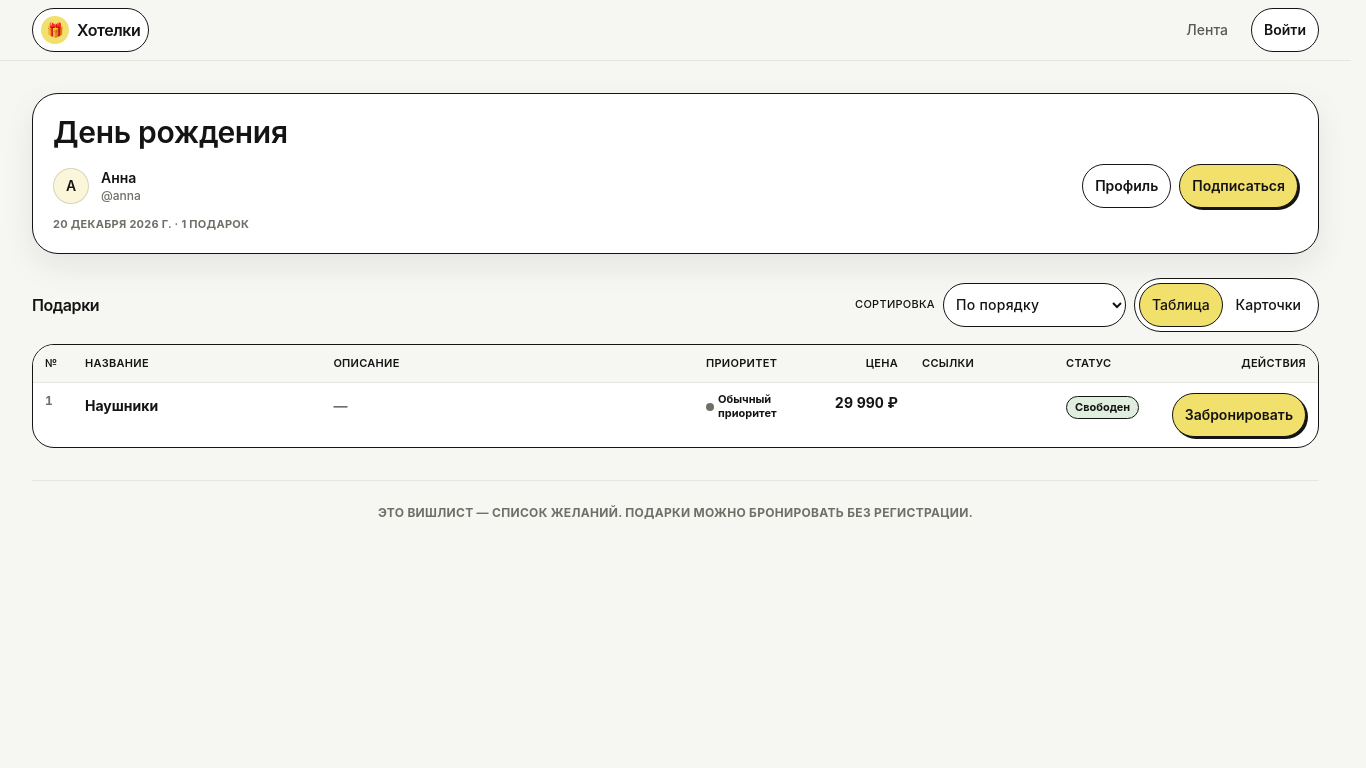
переключатель вида подарков › на публичной странице в виде «Карточки» бронирование работает
The image size is (1366, 768).
Expected: the text "Наушники" is shown, [85,397,158,414]
Click the button "Карточки".
click(1268, 304)  # box [1223,282,1314,326]
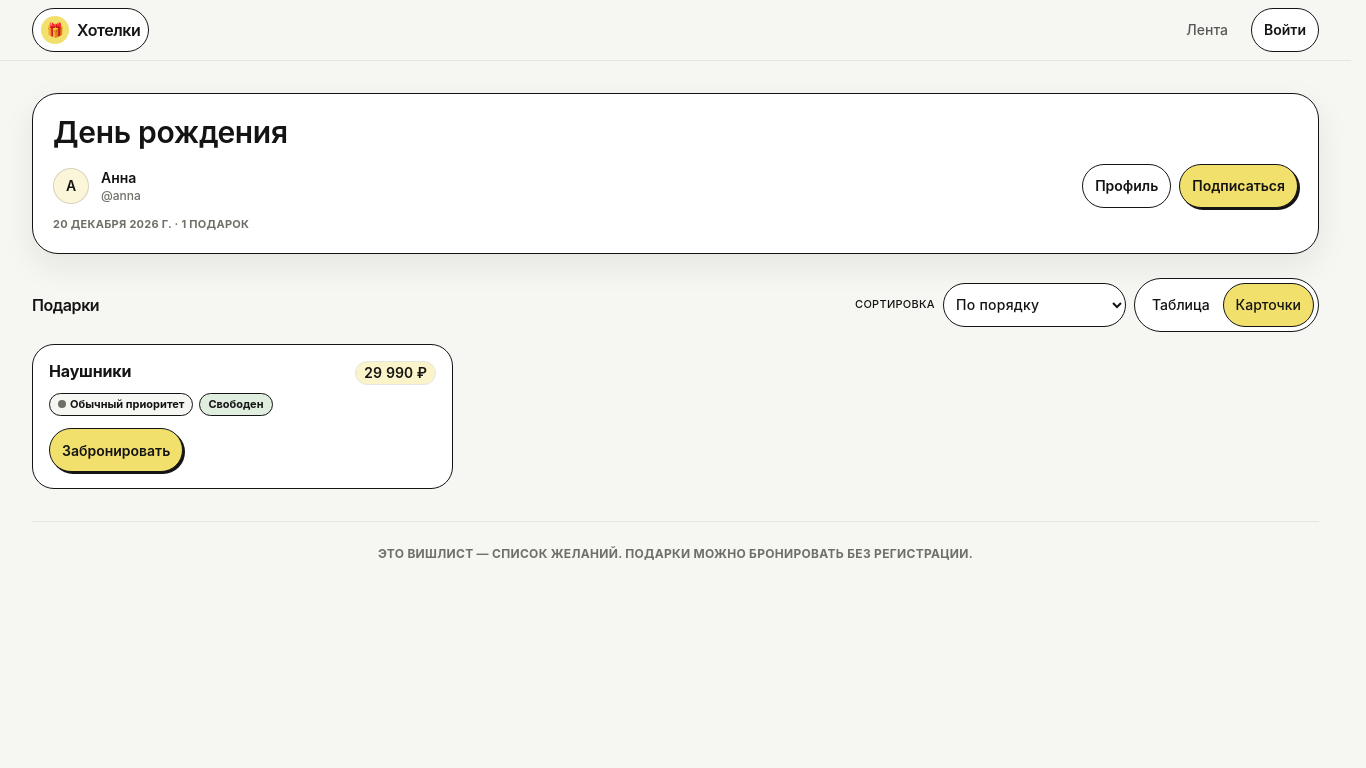
Click the button "Забронировать".
click(116, 450)  # box [49,428,183,472]
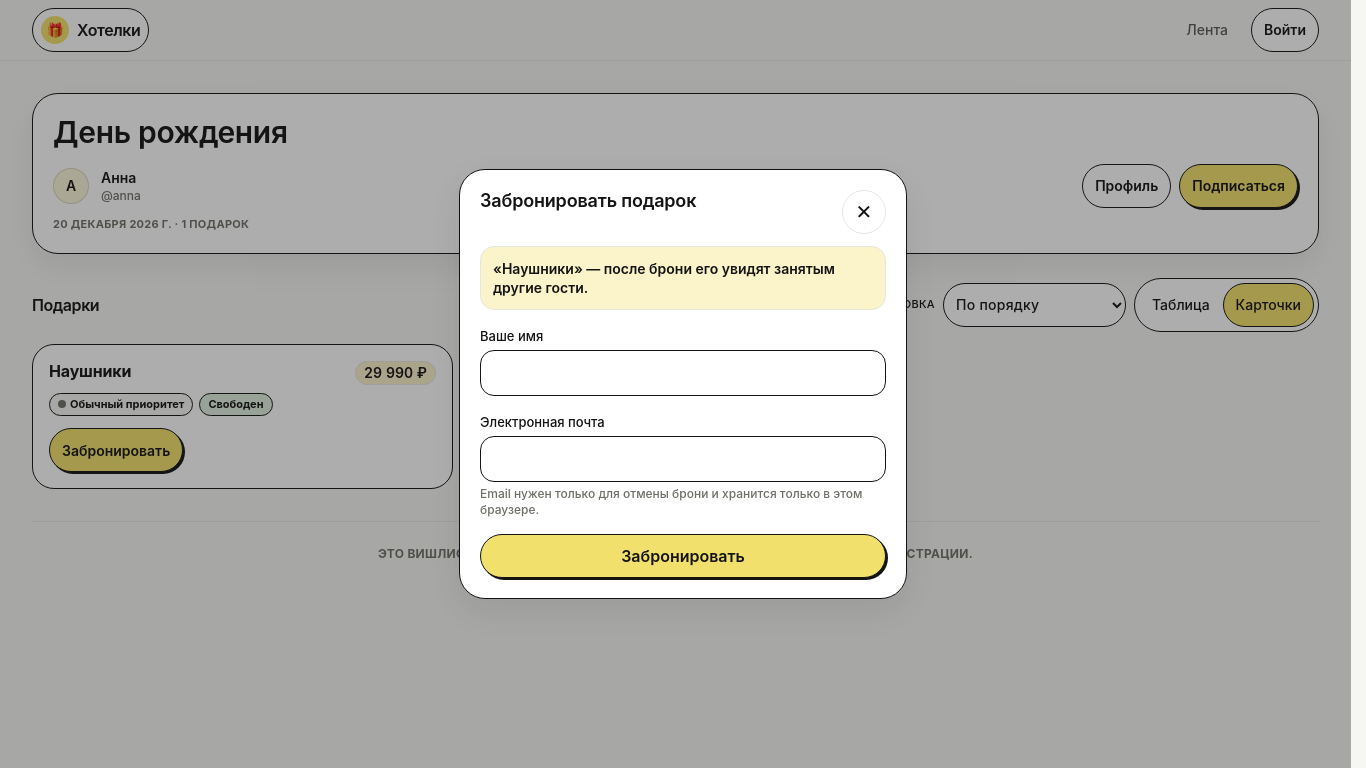
Expected: the heading "Забронировать подарок" is shown, [480,190,696,211]
Expected: the text "Email нужен только для отмены брони и хранится только в этом браузере" is shown, [480,486,862,517]
